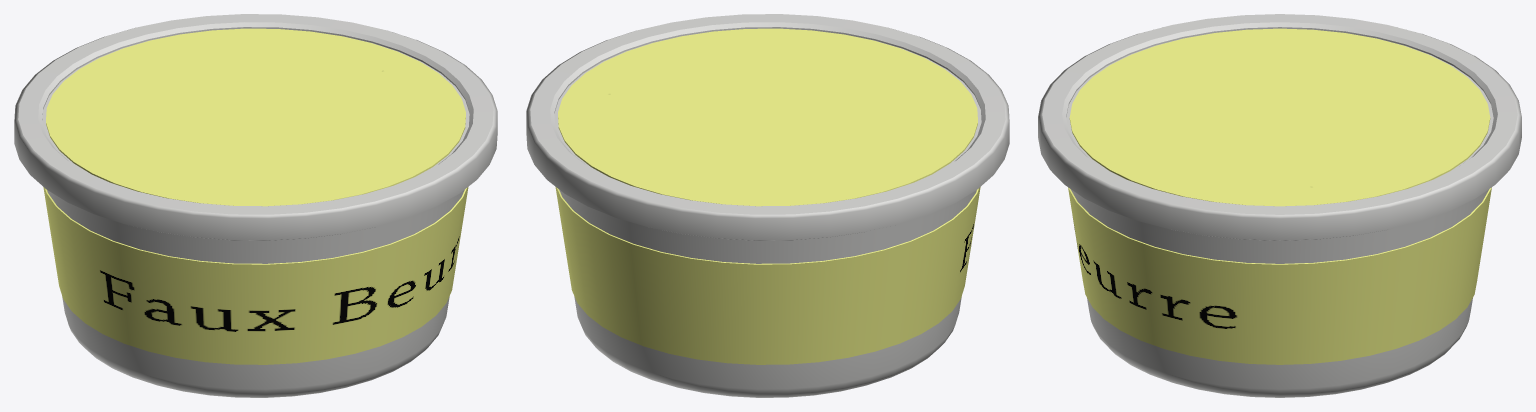
File: SM_PotMargarine.fbx
The picture shows the model from 3 angles, left to right: view 1: azimuth 30°, elevation 25°; view 2: azimuth 150°, elevation 25°; view 3: azimuth 270°, elevation 25°; orthographic projection.
Visible parts, largest first — view 1: SM_PotMargarine; view 2: SM_PotMargarine; view 3: SM_PotMargarine.
Part boxes in pixels (box(x1,y1,x2,y2)): SM_PotMargarine: box(14, 14, 497, 397); SM_PotMargarine: box(526, 14, 1009, 397); SM_PotMargarine: box(1038, 14, 1521, 397).
Size of the model in its own units: 198 by 94.55 by 198.
Materials: 2 (1 with a texture image).
